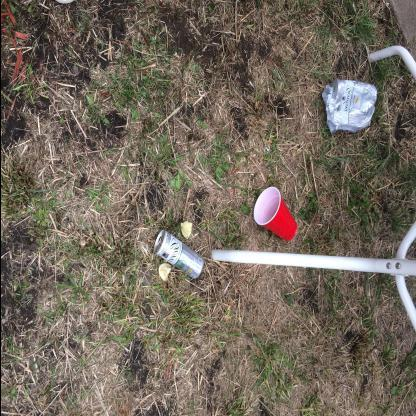metal: (154, 231, 204, 281)
plastik: (322, 79, 377, 136), (254, 188, 298, 243)
